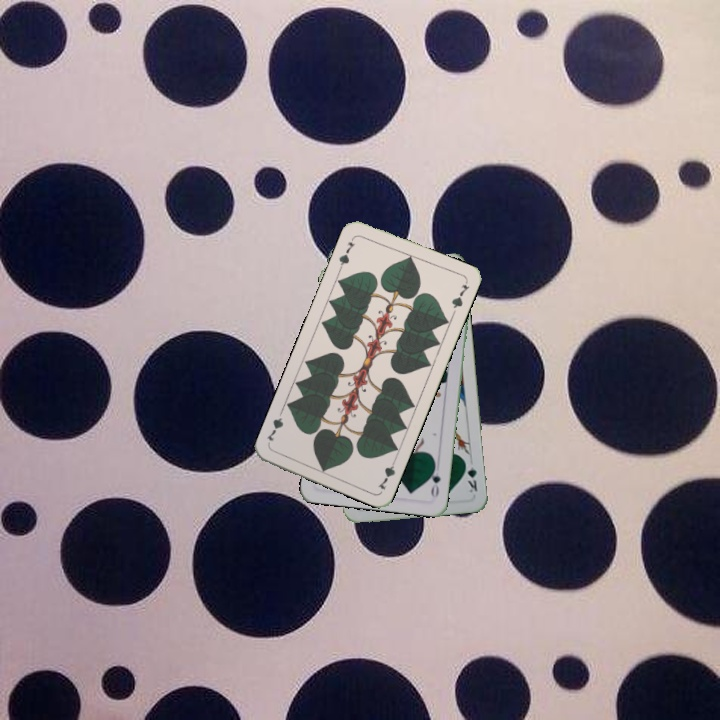G7: (374, 454, 399, 492), (335, 233, 358, 272)
GK: (461, 456, 480, 495)
GO: (426, 460, 443, 500)
